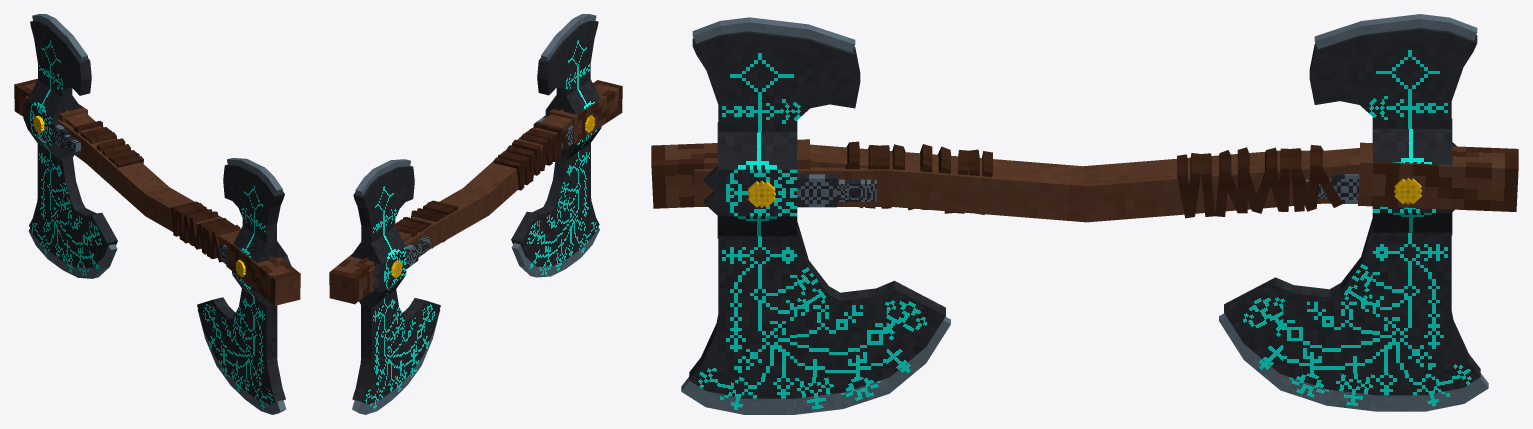
File: leviathan_axe.glb
3 renders of one model, left to right at view 1: azimuth 30°, elevation 25°; view 2: azimuth 150°, elevation 25°; view 3: azimuth 270°, elevation 25°, orthographic. The views are drawn at different scales.
Parts seen in each view (by area): view 1: main__Tool_R, off__Tool_L; view 2: main__Tool_R, off__Tool_L; view 3: off__Tool_L, main__Tool_R.
Part boxes in pixels (x1,y1,x2,y2): main__Tool_R: (23, 14, 300, 305); off__Tool_L: (14, 78, 291, 414); main__Tool_R: (351, 80, 622, 414); off__Tool_L: (329, 14, 601, 304); off__Tool_L: (681, 17, 1518, 414); main__Tool_R: (651, 14, 1488, 411).
Bounding box in the file's own units: 0.1563 × 0.8534 × 1.71.
Materials: 1 (1 with a texture image).
